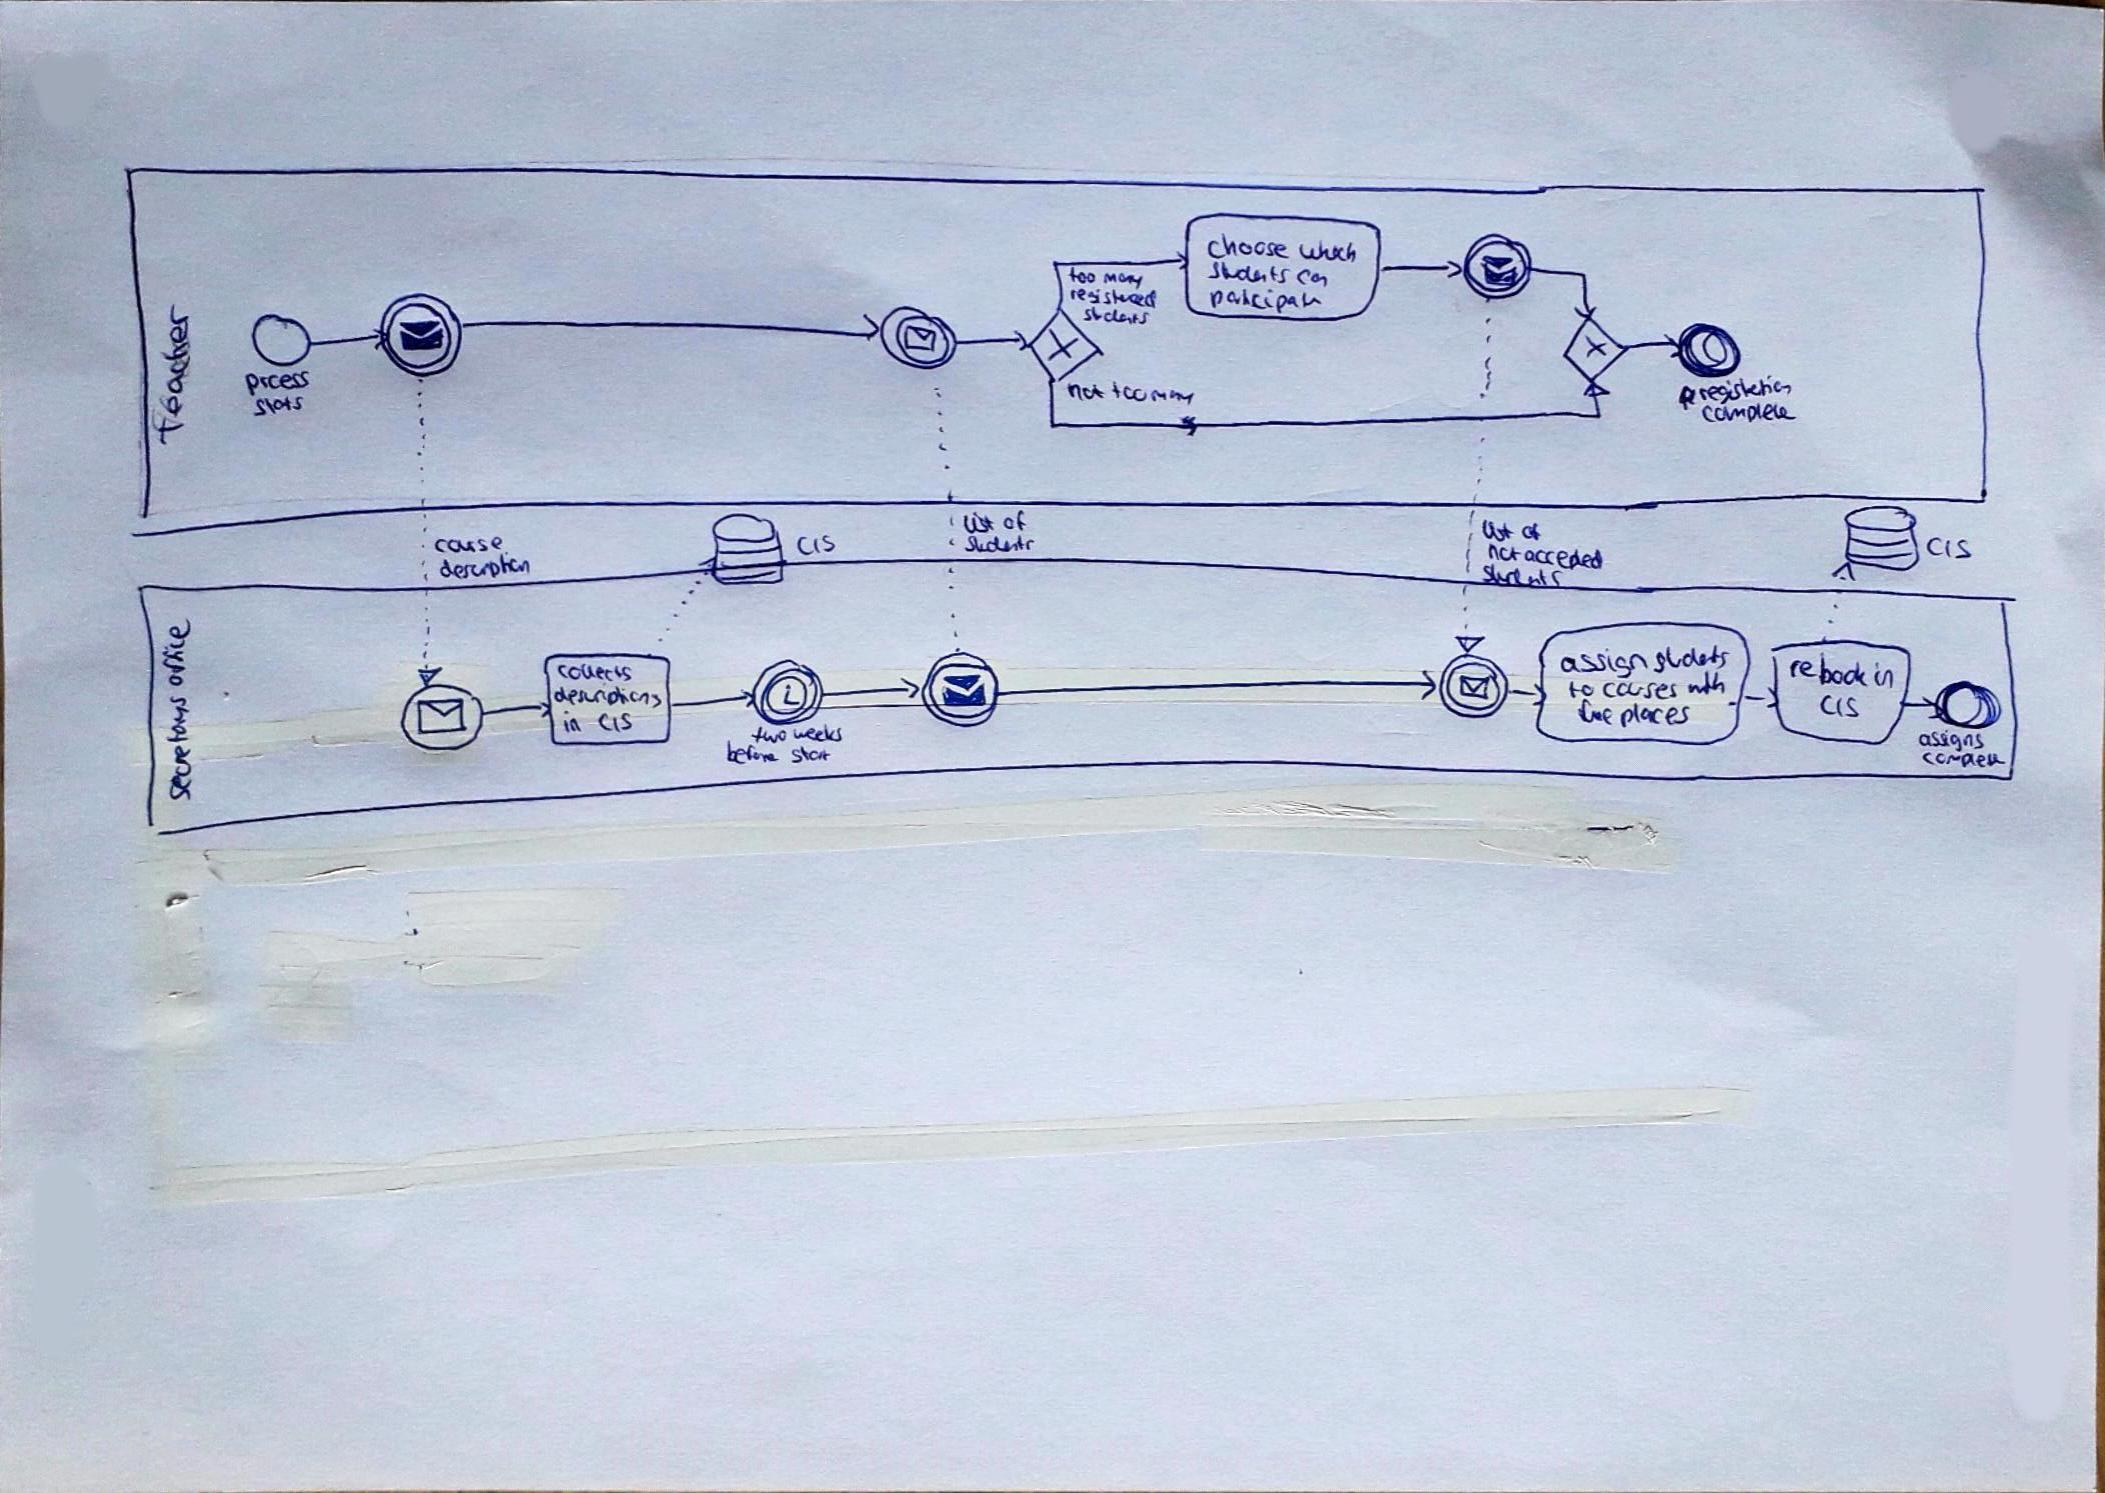CIS: (796, 532, 841, 559), (1927, 535, 1970, 562), (1820, 693, 1859, 720), (598, 713, 633, 733)
Sudents: (962, 532, 1037, 554)
accepted: (1524, 546, 1603, 571)
assign: (1562, 647, 1646, 679)
assigns: (1919, 730, 1987, 752)
before: (724, 743, 785, 764)
can: (1294, 266, 1329, 288)
choose: (1206, 235, 1292, 261)
collects: (556, 663, 634, 684)
complete: (1700, 404, 1799, 427), (1921, 749, 2007, 769)
course: (433, 533, 504, 557)
courses: (1603, 681, 1681, 700)
description: (440, 554, 534, 583)
descriptions: (555, 686, 661, 709)
free: (1579, 700, 1613, 726)
in: (1869, 660, 1897, 690), (558, 712, 586, 733)
list: (1479, 516, 1516, 545), (961, 512, 998, 537)
many: (1150, 383, 1194, 409), (1105, 269, 1142, 289)
not: (1069, 382, 1105, 405), (1487, 543, 1522, 565)
of: (1002, 511, 1029, 536), (1520, 520, 1542, 544)
office: (158, 619, 195, 690)
participate: (1210, 288, 1327, 312)
places: (1620, 702, 1691, 728)
prcess: (246, 370, 312, 396)
rebook: (1788, 653, 1869, 687)
registered: (1066, 286, 1156, 309)
registration: (1698, 374, 1793, 405)
secretary's: (161, 694, 197, 804)
start: (790, 745, 832, 764)
stats: (253, 393, 310, 419)
students: (1650, 641, 1729, 675), (1480, 563, 1566, 591), (1204, 262, 1294, 287), (1081, 306, 1151, 328)
teacher: (152, 303, 193, 444)
to: (1565, 679, 1601, 700)
too: (1108, 382, 1150, 407), (1063, 263, 1102, 286)
two: (752, 726, 793, 745)
weeks: (794, 726, 845, 745)
which: (1296, 239, 1362, 264)
wth: (1686, 670, 1727, 696)
